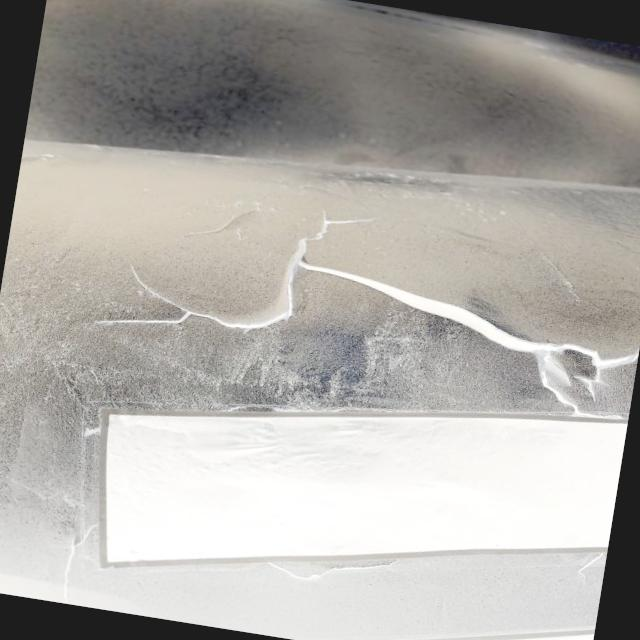crack: (280, 202, 640, 382), (82, 248, 289, 370), (185, 194, 283, 262)
